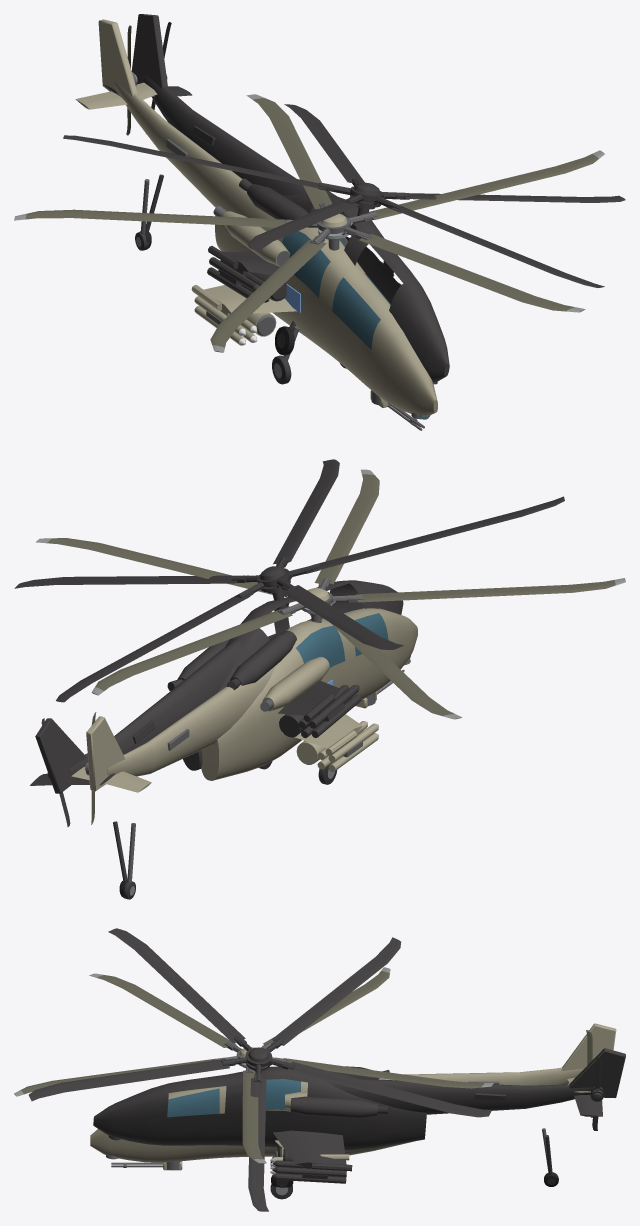
File: gunship__aw129_mangusta.glb
3 views of the same model, one above another, from view 1: azimuth 30°, elevation 25°; view 2: azimuth 150°, elevation 25°; view 3: azimuth 270°, elevation 25° (orthographic). The views are drawn at different scales.
Visible parts, largest first — view 1: Wreck, Fuselage_Mesh, Rotor_Main_Mesh, Stub_Wings_Stores_Mesh, Engines_Mesh, Landing_Gear_Mesh; view 2: Wreck, Fuselage_Mesh, Rotor_Main_Mesh, Stub_Wings_Stores_Mesh, Engines_Mesh, Landing_Gear_Mesh; view 3: Wreck, Fuselage_Mesh, Rotor_Main_Mesh, Landing_Gear_Mesh.
Boxes of the visible parts, bbox=[...] form: Wreck: bbox=[63, 14, 625, 384]; Fuselage_Mesh: bbox=[75, 19, 437, 419]; Rotor_Main_Mesh: bbox=[14, 94, 604, 352]; Stub_Wings_Stores_Mesh: bbox=[191, 285, 296, 345]; Engines_Mesh: bbox=[213, 206, 347, 266]; Landing_Gear_Mesh: bbox=[135, 179, 346, 384]; Wreck: bbox=[14, 459, 564, 897]; Fuselage_Mesh: bbox=[71, 608, 417, 792]; Rotor_Main_Mesh: bbox=[36, 469, 625, 719]; Stub_Wings_Stores_Mesh: bbox=[282, 714, 378, 771]; Engines_Mesh: bbox=[260, 657, 329, 711]; Landing_Gear_Mesh: bbox=[122, 761, 337, 899]; Wreck: bbox=[28, 928, 625, 1211]; Fuselage_Mesh: bbox=[90, 1023, 616, 1162]; Rotor_Main_Mesh: bbox=[14, 967, 493, 1163]; Landing_Gear_Mesh: bbox=[270, 1128, 556, 1199].
Size of what is drawn, in the model's own units: 11.44 by 5.05 by 14.5.
